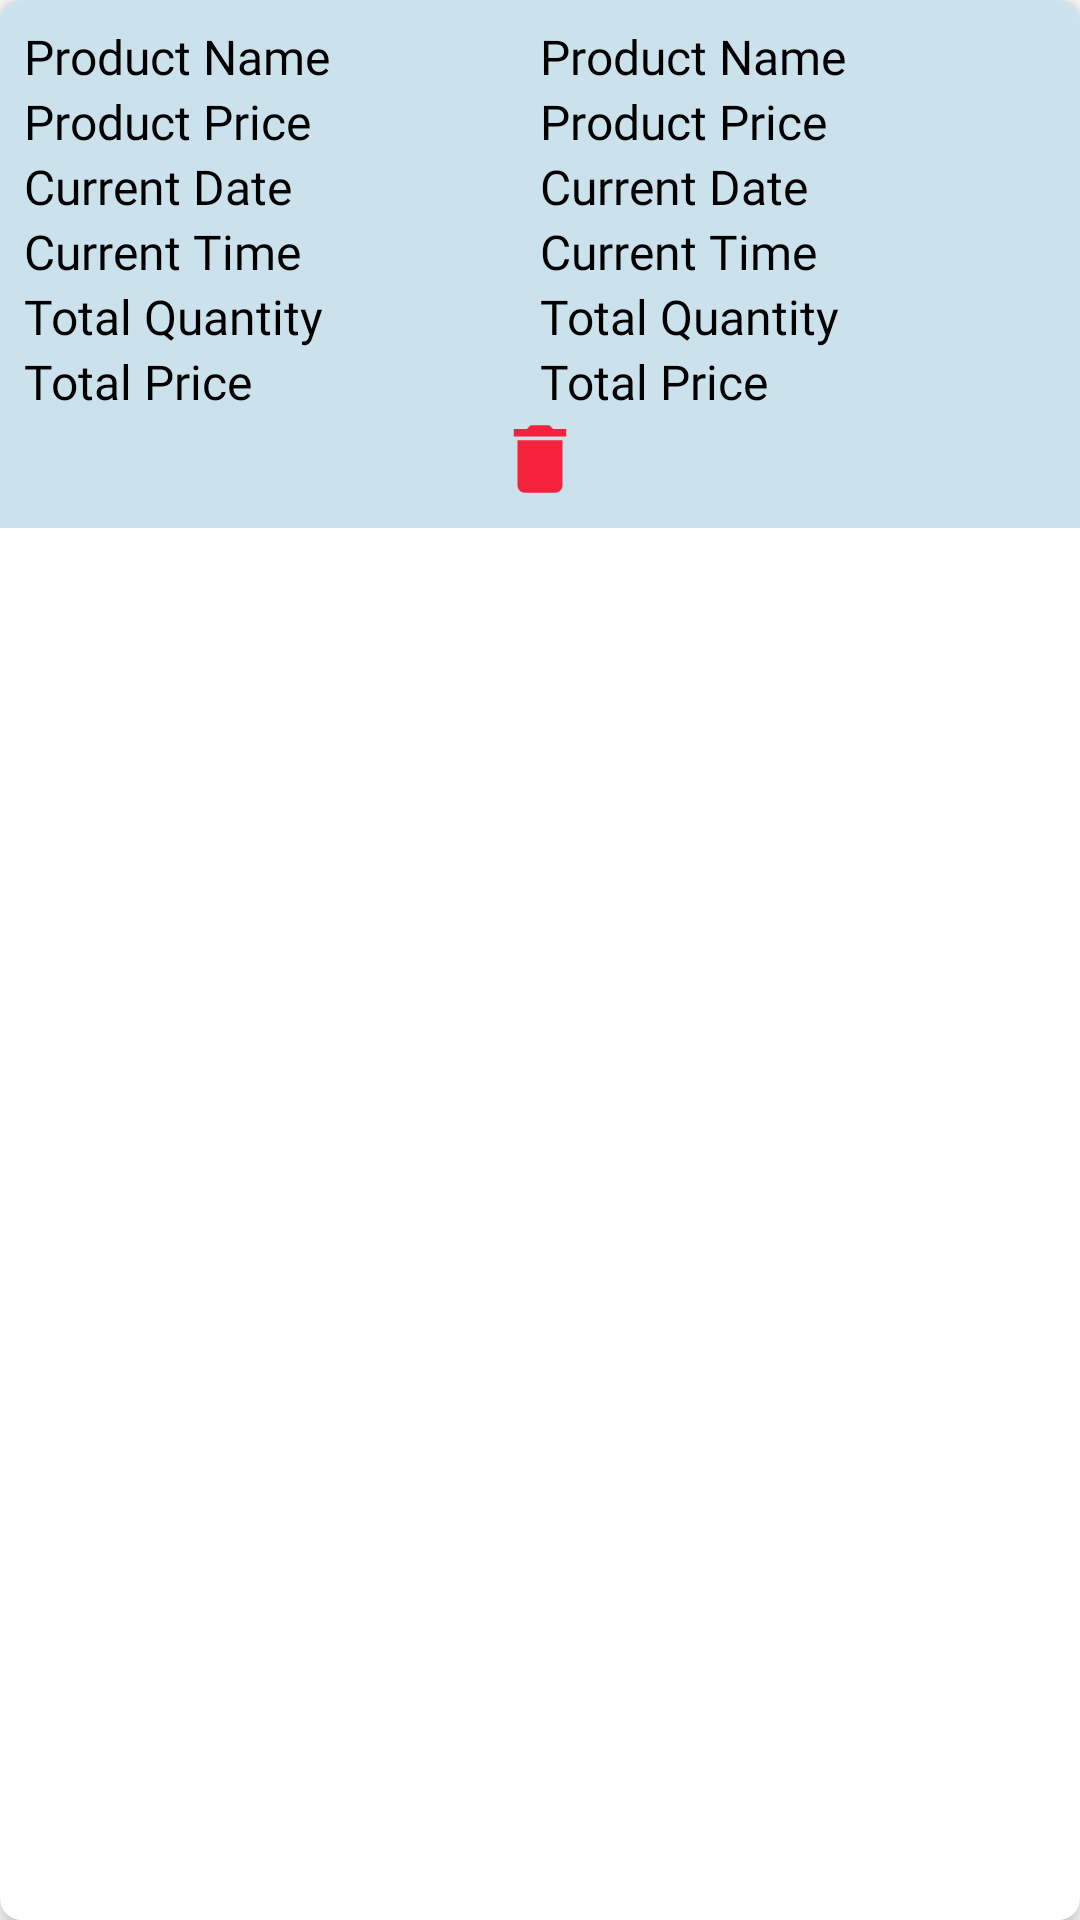

Screen size 1080 × 1920. Icon name, then its box in pixels as box=[x1, y1, x2, y2]:
delete: box=[513, 425, 567, 493]
